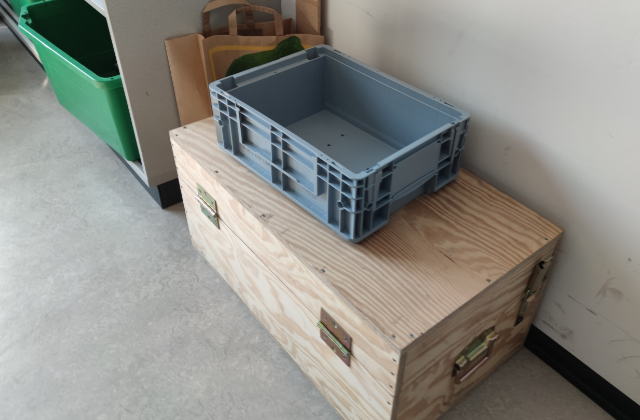Box: (208, 43, 472, 246)
